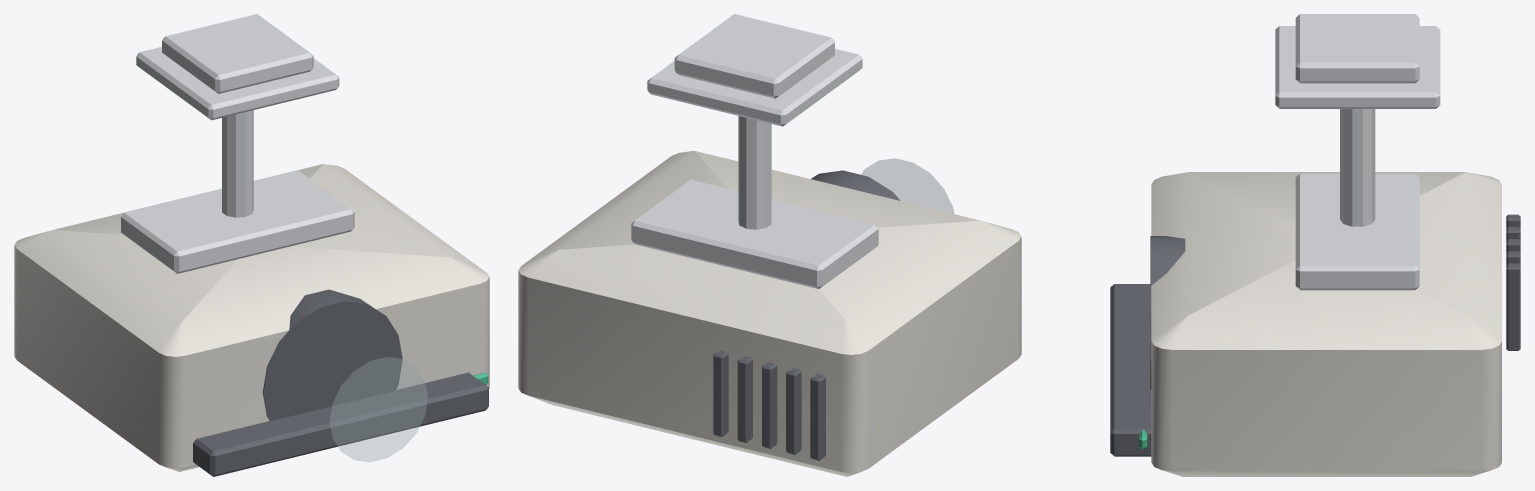
Rendered from university-lecture-hall-and-campus-ceiling-projector-m-3875de72.glb.
3 views of the same model, side by side, from view 1: azimuth 30°, elevation 25°; view 2: azimuth 150°, elevation 25°; view 3: azimuth 270°, elevation 25° (orthographic). The views are drawn at different scales.
Visible parts, largest first — view 1: ceiling-projector-mount; view 2: ceiling-projector-mount; view 3: ceiling-projector-mount.
Boxes of the visible parts, box(x1,y1,x2,y2) form: ceiling-projector-mount: box(14, 14, 489, 476); ceiling-projector-mount: box(518, 14, 1021, 476); ceiling-projector-mount: box(1110, 14, 1520, 476).
Bounding box in the file's own units: 0.4 × 0.39 × 0.456.
